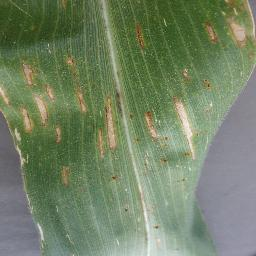Gray_Leaf_Spot: (0, 59, 53, 138), (199, 0, 256, 45), (170, 94, 199, 163), (97, 89, 122, 154), (72, 77, 90, 117), (11, 137, 31, 171), (140, 107, 157, 143), (129, 20, 148, 50), (62, 50, 79, 75), (158, 132, 169, 167), (58, 161, 73, 186), (54, 122, 65, 146), (150, 218, 162, 237), (178, 63, 189, 83), (140, 159, 152, 176), (201, 76, 214, 91), (57, 0, 73, 10), (121, 204, 133, 217), (109, 172, 119, 184), (128, 112, 135, 122), (131, 137, 139, 142)
